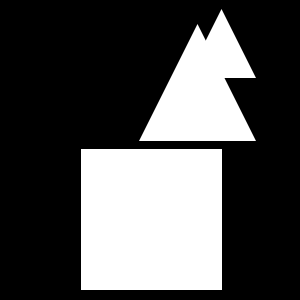circle: (81, 149, 222, 290)
triangle: (139, 24, 256, 141), (187, 9, 256, 78), (171, 220, 203, 252), (184, 59, 191, 66)
